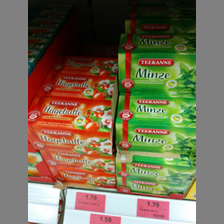tea: (28, 96, 114, 155), (118, 33, 196, 93), (116, 98, 197, 154), (116, 152, 195, 186)
